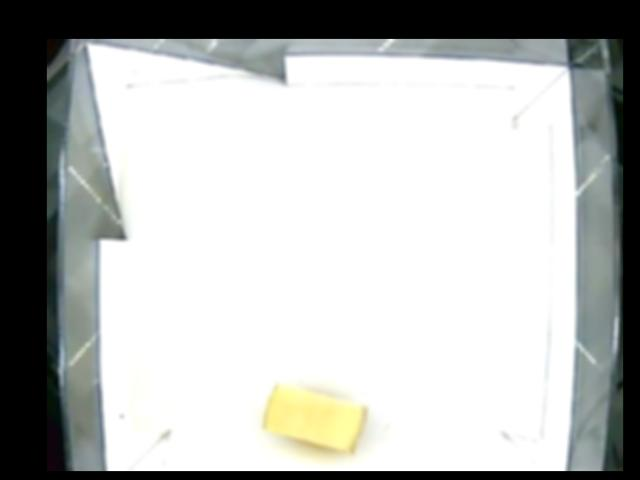Potato: (260, 380, 368, 452)
